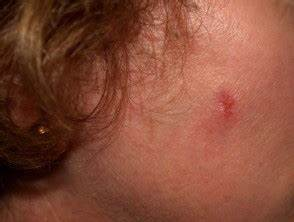jerawat: (173, 59, 260, 167)
